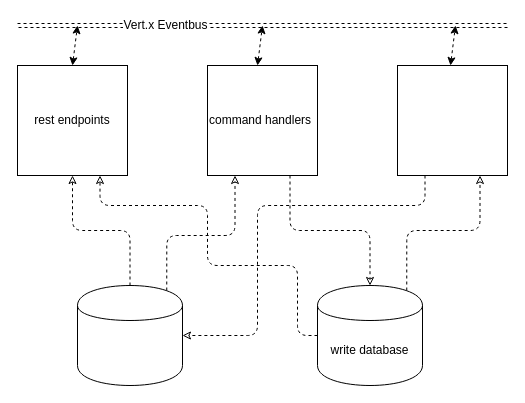
Some shapes in this 525 by 403 pixel diagram are drawn without their labels. The shapes that lost their labels are listed below. From the top down, each one's box as (x1, y1, x2, y2) in pixels, then its label:
(396, 64, 508, 176): events projectors
(76, 284, 182, 386): read database
